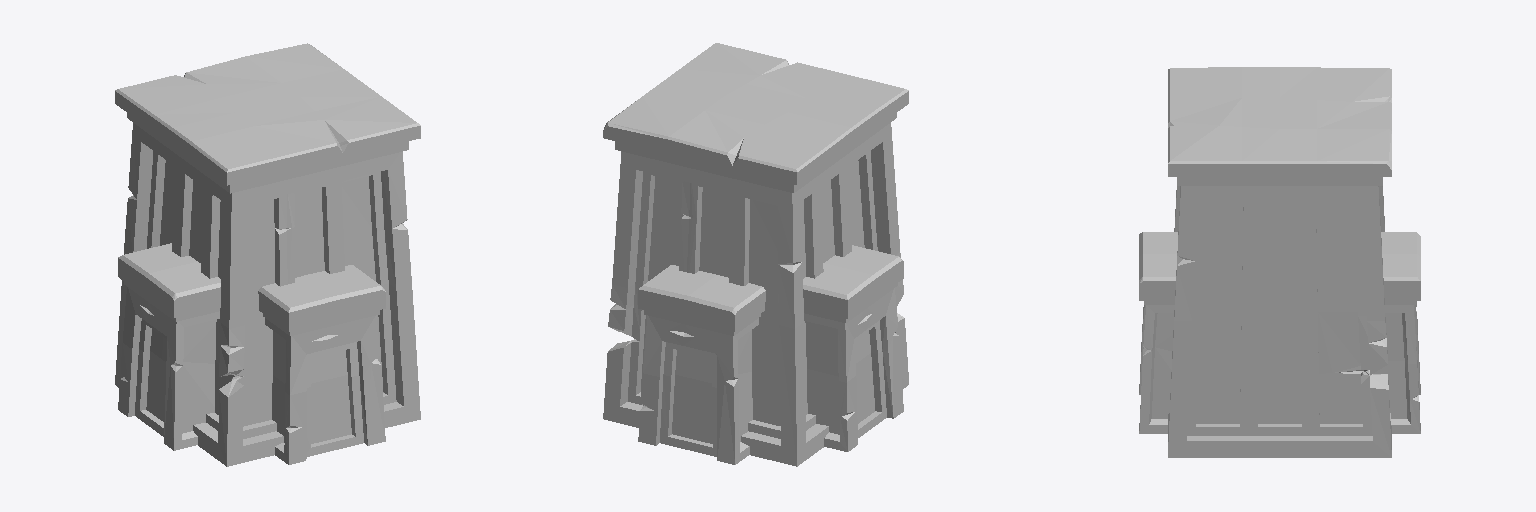
File: pedestal.obj
3 renders of one model, left to right at view 1: azimuth 30°, elevation 25°; view 2: azimuth 150°, elevation 25°; view 3: azimuth 270°, elevation 25°, orthographic.
Visible parts, largest first — view 1: Box003; view 2: Box003; view 3: Box003.
Boxes of the visible parts, box(x1,y1,x2,y2) form: Box003: box(115, 43, 420, 466); Box003: box(603, 43, 908, 466); Box003: box(1139, 67, 1420, 457).
Bounding box in the file's own units: 66.24 × 86.57 × 74.04.